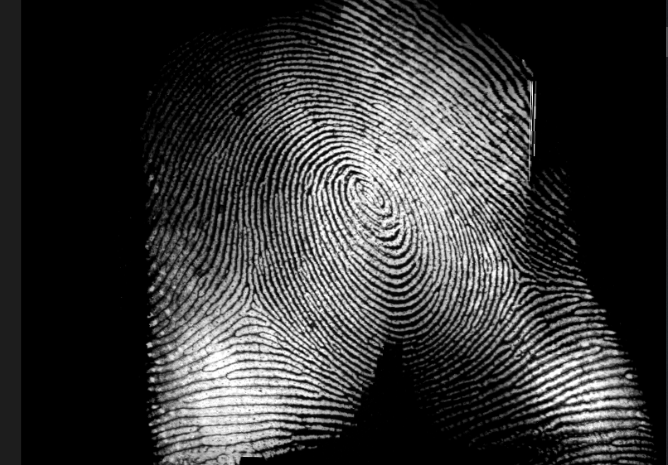deltas: (222, 280, 283, 335), (495, 250, 546, 300)
nucleo: (333, 169, 396, 221)
